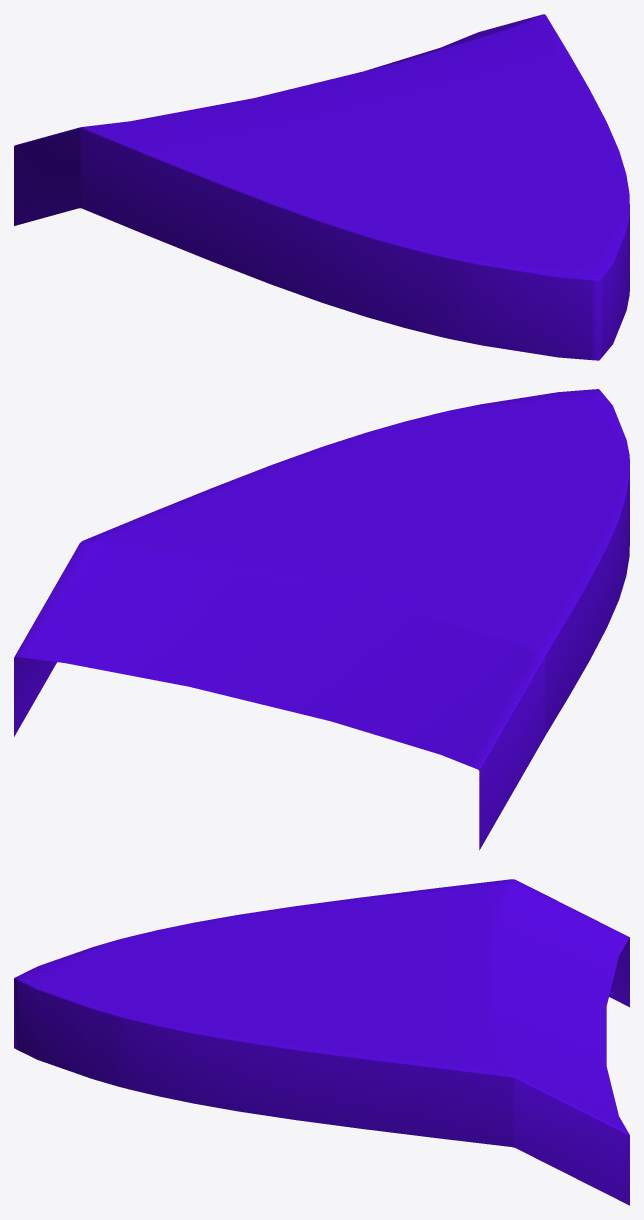
Rendered from BOOT PLATEAU.fbx.
3 renders of one model, top to bottom at view 1: azimuth 30°, elevation 25°; view 2: azimuth 150°, elevation 25°; view 3: azimuth 270°, elevation 25°, orthographic. The views are drawn at different scales.
Parts seen in each view (by area): view 1: Cylinder.001; view 2: Cylinder.001; view 3: Cylinder.001.
Boxes of the visible parts, x1,y1,x2,y2 form: Cylinder.001: (14, 14, 629, 360); Cylinder.001: (14, 389, 629, 850); Cylinder.001: (14, 879, 629, 1205).
Size of the model in its own units: 6.52 by 1.98 by 8.55.
